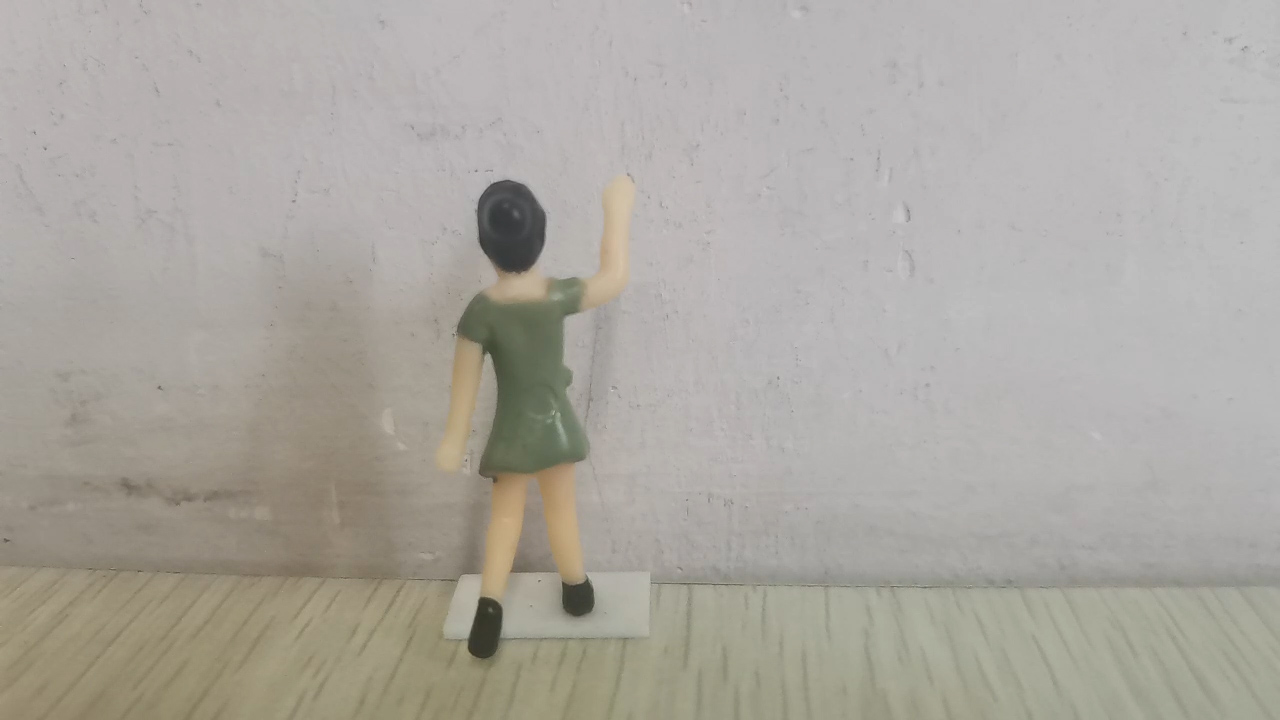person: (433, 168, 639, 662)
